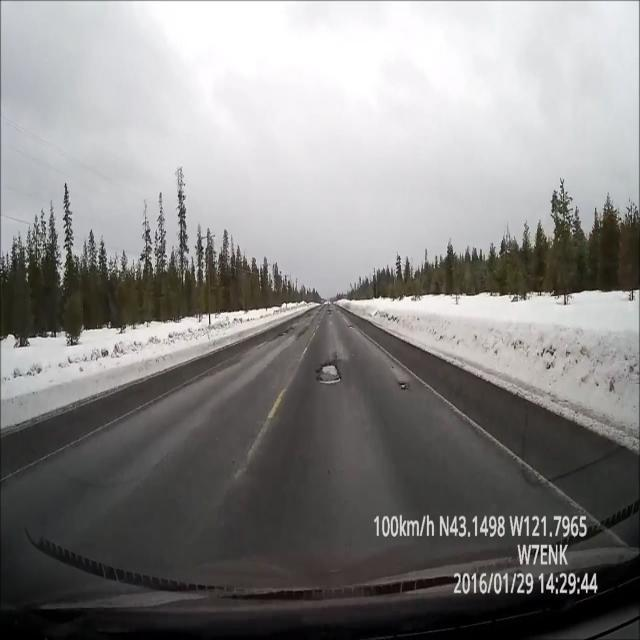pothole: (312, 353, 344, 386), (394, 377, 416, 398)
